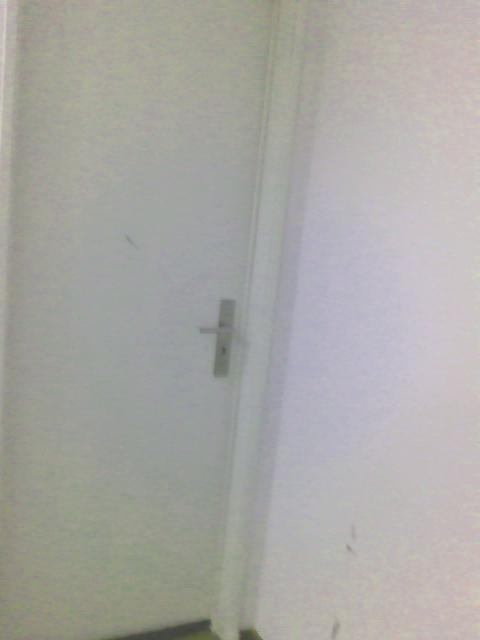closed_door: (5, 1, 276, 639)
